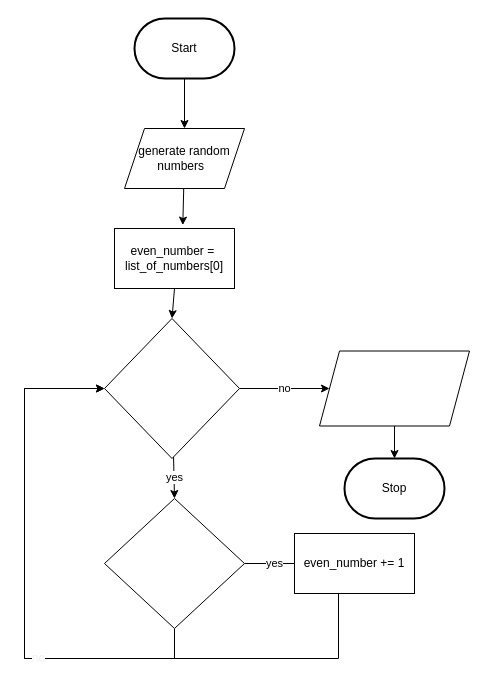
Some shapes in this 487 by 684 pixel diagram are drawn without their labels. Each missing label, with the box of its shape:
for counter in range (0, len(list_of_numbers)): (104, 318, 240, 458)
if list_of_numbers[counter] % 2 == 0: (104, 498, 244, 628)
return smallest number: (318, 350, 470, 426)
